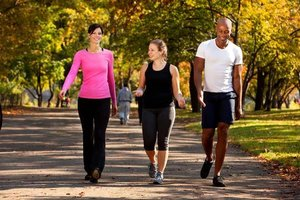feet: (199, 153, 226, 190), (81, 160, 110, 183), (144, 160, 167, 183)
